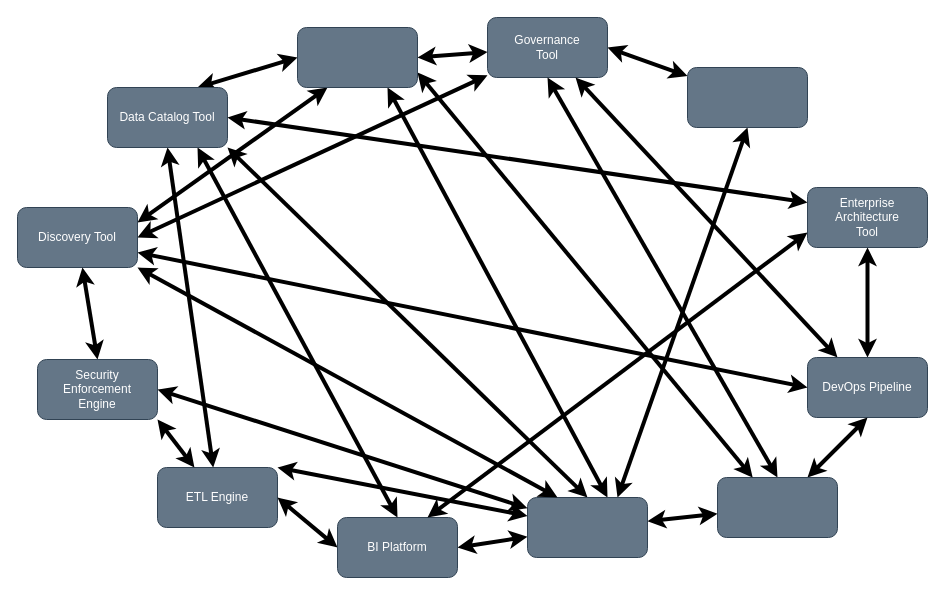
The diagram is 945 pixels wide and 595 high, and some of its shapes have lost their labels. Here are the shapes that lost their labels. From the top down, the centre of each, then its label:
At (357,57): "Ontology Tool".
At (747,97): "Data Science Tool".
At (587,527): "Data Platform".
At (777,507): "ITIL Platform".
